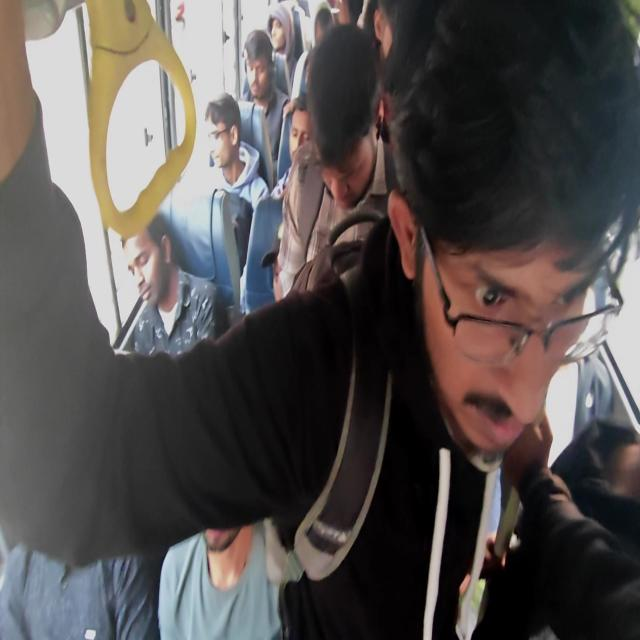person: (1, 1, 638, 637), (471, 415, 639, 638), (273, 22, 398, 300), (120, 212, 227, 358), (0, 543, 161, 639), (157, 519, 284, 638), (204, 92, 270, 212), (241, 28, 291, 161), (271, 91, 312, 198)
